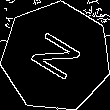N_SE: (24, 27, 88, 86)
